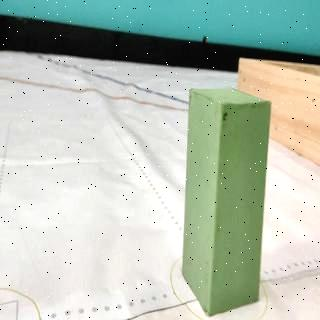greenbox: (181, 87, 273, 318)
